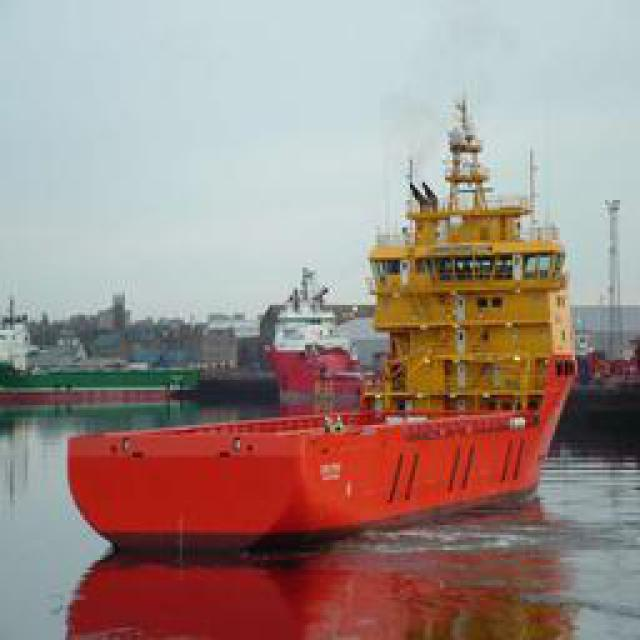Ship: (62, 48, 582, 573)
